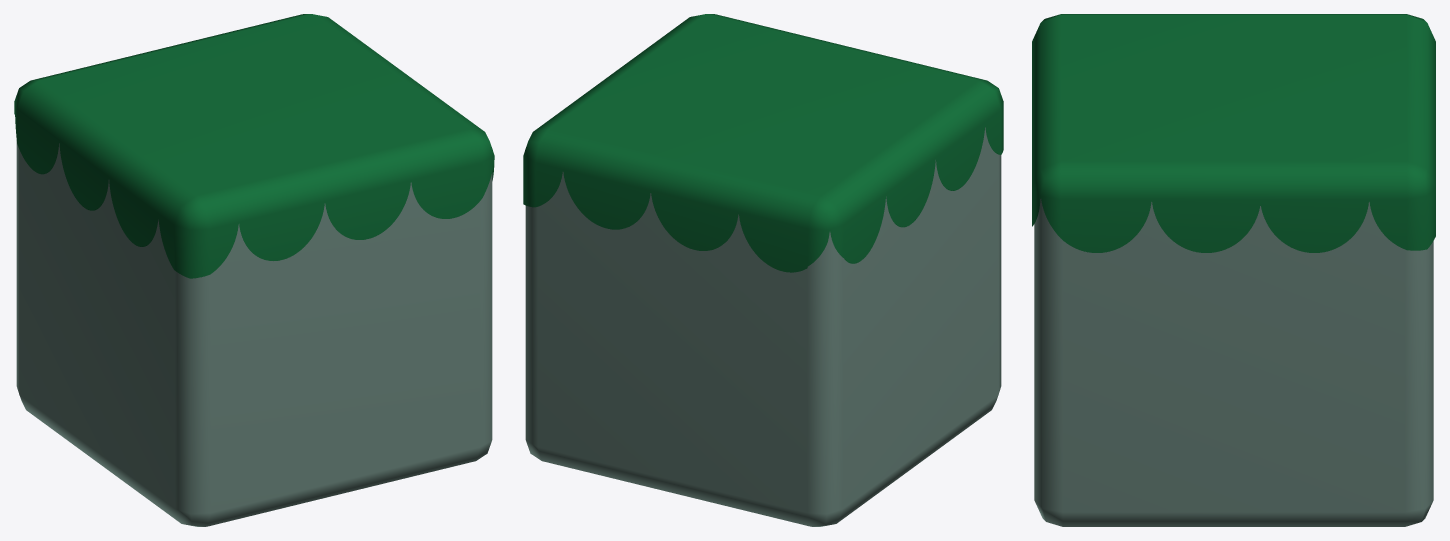
File: BlockGrass2.fbx
3 renders of one model, left to right at view 1: azimuth 30°, elevation 25°; view 2: azimuth 150°, elevation 25°; view 3: azimuth 270°, elevation 25°, orthographic. The views are drawn at different scales.
Visible parts, largest first — view 1: pCube3, pCube4; view 2: pCube3, pCube4; view 3: pCube3, pCube4.
Part boxes in pixels (x1,y1,x2,y2): pCube3: (16, 141, 492, 526); pCube4: (14, 14, 494, 278); pCube3: (525, 127, 1001, 526); pCube4: (523, 14, 1003, 272); pCube3: (1034, 199, 1433, 526); pCube4: (1032, 14, 1435, 252).
Bounding box in the file's own units: 2.44 × 2.44 × 2.44.
